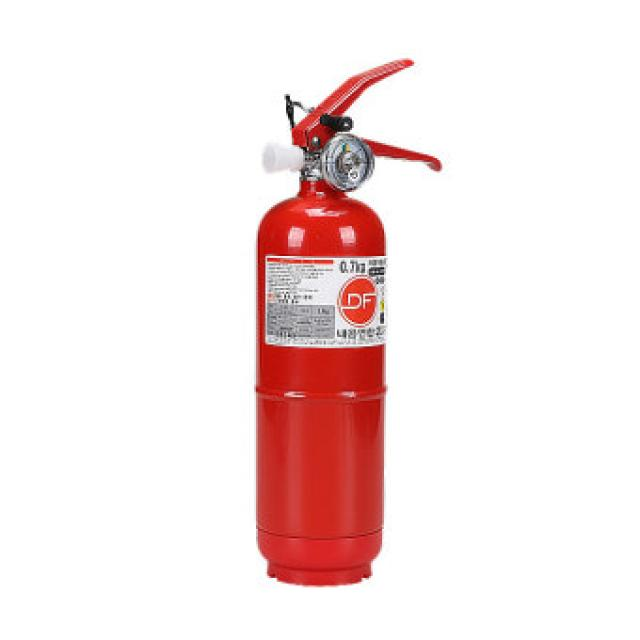pressure gauge: (320, 134, 374, 190)
